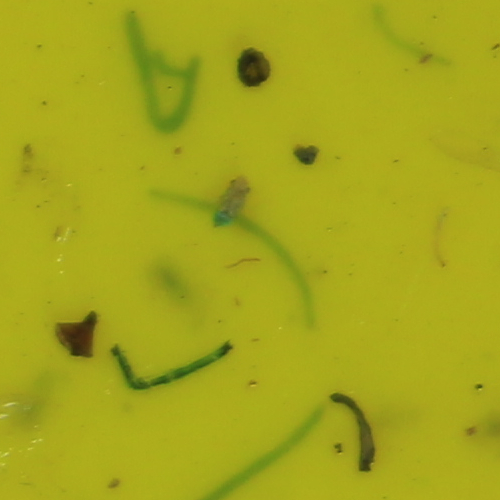psylla: (211, 174, 253, 230)
